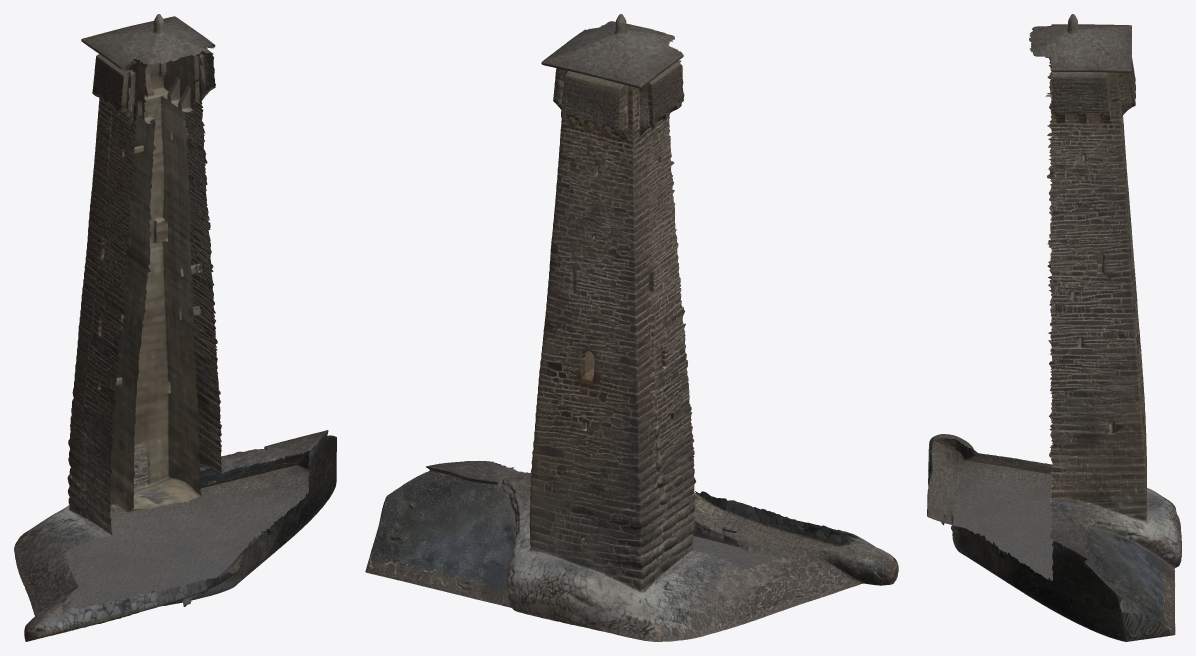
The model's file is tower-cut.glb.
3 renders of one model, left to right at view 1: azimuth 30°, elevation 25°; view 2: azimuth 150°, elevation 25°; view 3: azimuth 270°, elevation 25°, orthographic. The views are drawn at different scales.
Bounding box in the file's own units: 1.49 × 1.9 × 0.8292.
1 material, 1 textured.
